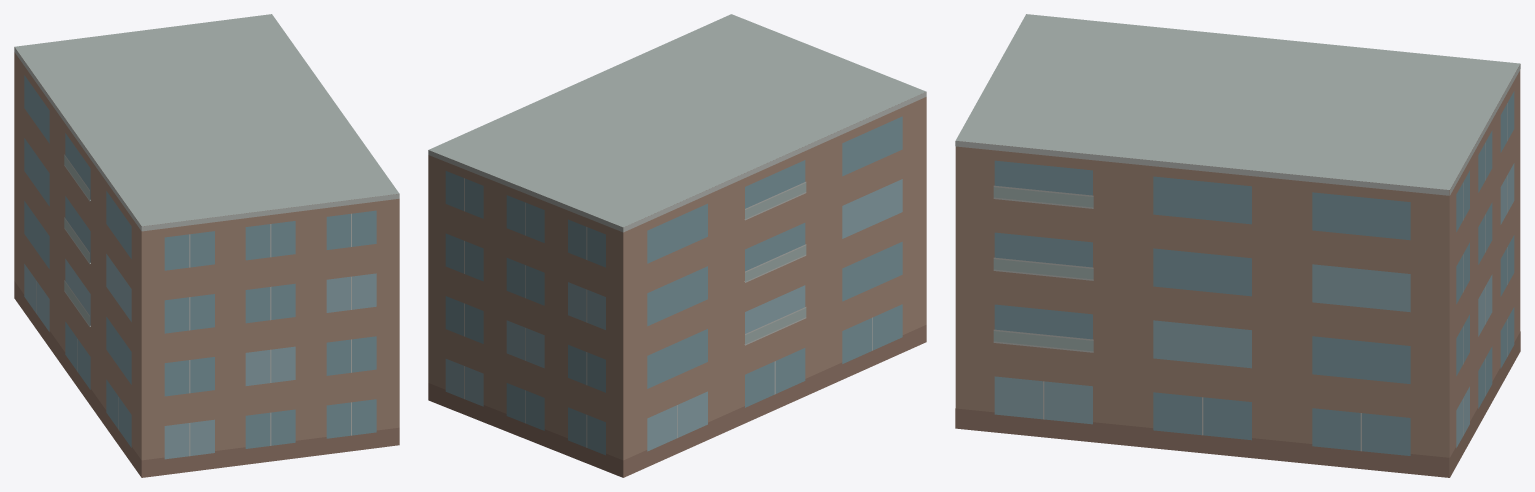
The model's file is residential-8dee3ffd-527f-4524-94c5-589ed81b270b.glb.
3 views of the same model, side by side, from view 1: azimuth 30°, elevation 25°; view 2: azimuth 150°, elevation 25°; view 3: azimuth 270°, elevation 25° (orthographic). The views are drawn at different scales.
Parts seen in each view (by area): view 1: residential-8dee3ffd-527f-4524-94c5-589ed81b270b.tmp; view 2: residential-8dee3ffd-527f-4524-94c5-589ed81b270b.tmp; view 3: residential-8dee3ffd-527f-4524-94c5-589ed81b270b.tmp.
Part boxes in pixels (x1,y1,x2,y2): residential-8dee3ffd-527f-4524-94c5-589ed81b270b.tmp: (14, 14, 399, 477); residential-8dee3ffd-527f-4524-94c5-589ed81b270b.tmp: (428, 14, 926, 477); residential-8dee3ffd-527f-4524-94c5-589ed81b270b.tmp: (955, 14, 1520, 477).
Size of the model in its own units: 16.02 by 12.2 by 21.72.
